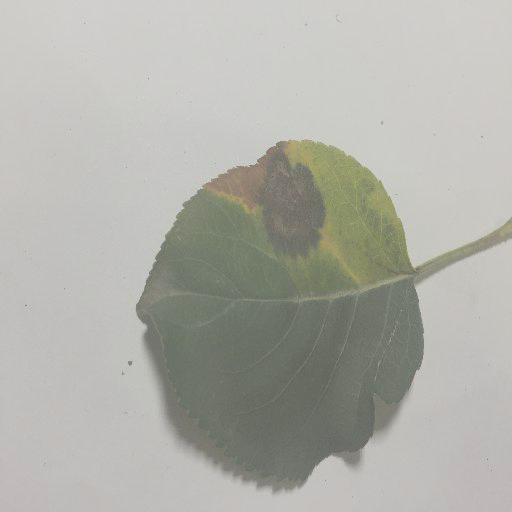Brown_Spot: (256, 159, 327, 253)
